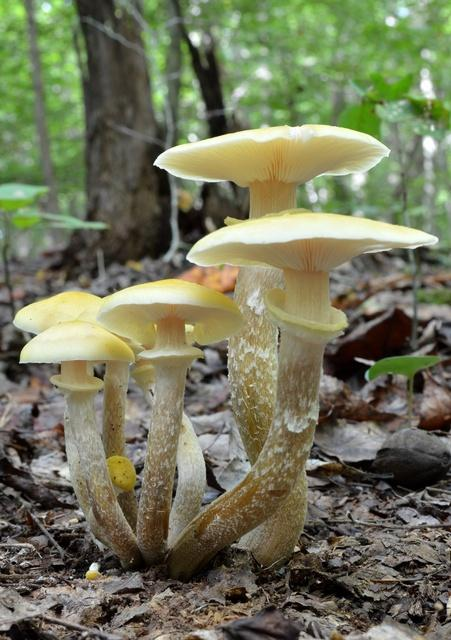Edible Mushroom: (164, 206, 438, 579), (95, 277, 244, 565), (149, 118, 400, 245), (17, 318, 141, 569)
